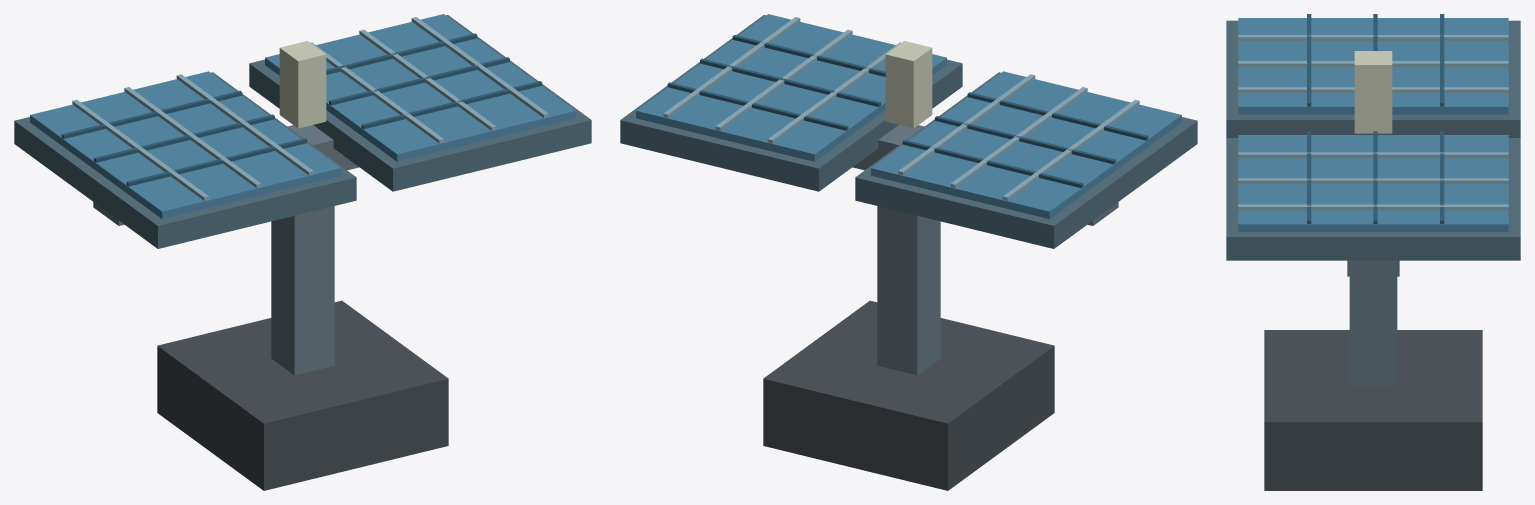
The model's file is CMU3DSolarTracker.glb.
The picture shows the model from 3 angles, left to right: view 1: azimuth 30°, elevation 25°; view 2: azimuth 150°, elevation 25°; view 3: azimuth 270°, elevation 25°; orthographic projection. The views are drawn at different scales.
Parts seen in each view (by area): view 1: blue collector (×2), tracking base, panel backing (×2), tracking mast, cell divider (×6), cell row seam (×6), central sun sensor, cross mount; view 2: blue collector (×2), tracking base, panel backing (×2), tracking mast, cell divider (×6), cell row seam (×6), central sun sensor, cross mount; view 3: blue collector (×2), tracking base, panel backing (×2), cell divider (×6), tracking mast, central sun sensor, cell row seam (×5), cross mount.
Boxes of the visible parts, x1=… form: blue collector (×2): x1=30, y1=14, x2=575, y2=219; tracking base: x1=157, y1=300, x2=448, y2=490; panel backing (×2): x1=14, y1=15, x2=591, y2=248; tracking mast: x1=271, y1=206, x2=334, y2=375; cell divider (×6): x1=72, y1=17, x2=548, y2=200; cell row seam (×6): x1=61, y1=33, x2=542, y2=186; central sun sensor: x1=279, y1=41, x2=326, y2=128; cross mount: x1=93, y1=125, x2=359, y2=225; blue collector (×2): x1=636, y1=14, x2=1181, y2=219; tracking base: x1=763, y1=300, x2=1054, y2=490; panel backing (×2): x1=620, y1=15, x2=1197, y2=248; tracking mast: x1=877, y1=206, x2=940, y2=375; cell divider (×6): x1=663, y1=17, x2=1139, y2=200; cell row seam (×6): x1=667, y1=35, x2=1148, y2=187; central sun sensor: x1=885, y1=41, x2=932, y2=128; cross mount: x1=852, y1=125, x2=1118, y2=225; blue collector (×2): x1=1238, y1=18, x2=1508, y2=231; tracking base: x1=1264, y1=330, x2=1482, y2=490; panel backing (×2): x1=1226, y1=20, x2=1520, y2=260; cell divider (×6): x1=1238, y1=35, x2=1508, y2=210; tracking mast: x1=1349, y1=276, x2=1397, y2=385; central sun sensor: x1=1354, y1=51, x2=1392, y2=133; cell row seam (×5): x1=1307, y1=14, x2=1444, y2=223; cross mount: x1=1347, y1=260, x2=1399, y2=276.
Size of the model in its own units: 1.08 by 0.9 by 0.62.
